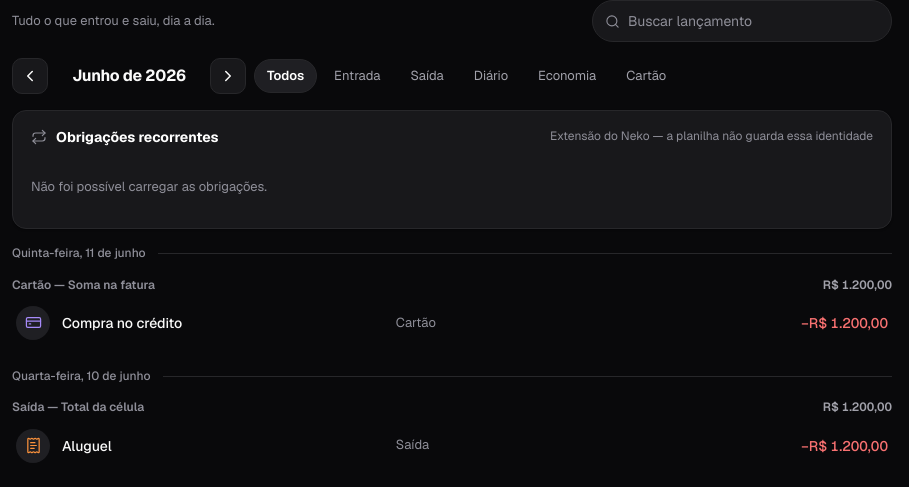
TransactionsScreen (Lançamentos) › filtro por tipo seleciona células inteiras
This screenshot has width=909, height=487.
Expected: the button "Aluguel Saída −R$ 1.200,00" is shown, [12, 421, 892, 471]
Step 1. Click the button "Cartão" → coordinates (646, 76), box [613, 59, 679, 93]
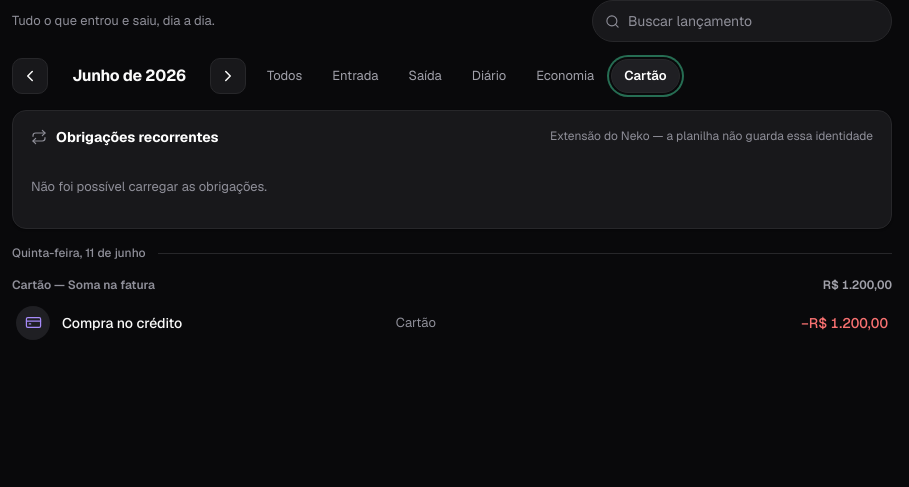
Expected: the button "Compra no crédito Cartão −R$ 1.200,00" is shown, [12, 298, 892, 348]
Expected: the button "Aluguel" is gone
